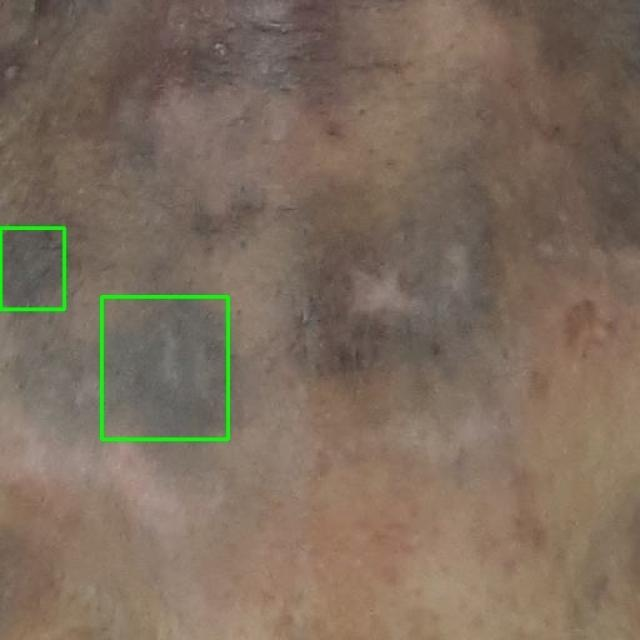Tinea Corporis: (101, 296, 228, 439), (0, 228, 64, 309)
